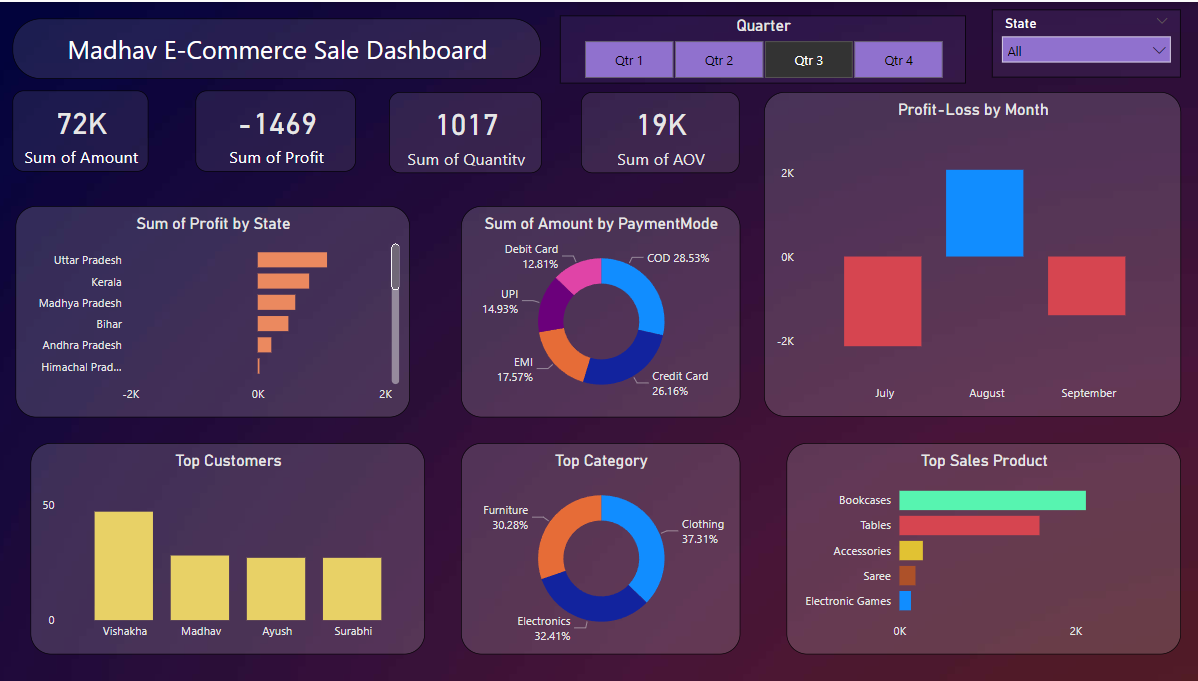

The dashboard page shown, as its layout file describes it:
{"tool":"powerbi","page":{"name":"Page 1","canvas":[1280,720],"ordinal":0},"visuals":[{"type":"card","fields":{"Values":["Details.Amount"]},"box":[18,94,144,86],"z":0},{"type":"card","fields":{"Values":["Details.Profit"]},"box":[212,94,170,86],"z":1000},{"type":"card","fields":{"Values":["Details.Quantity"]},"box":[416,96,162,86],"z":2000},{"type":"card","fields":{"Values":["Details.AOV"]},"box":[620,96,168,86],"z":3000},{"type":"textbox","box":[18,18,560,64],"z":4000},{"type":"columnChart","title":"Profit-Loss by Month","fields":{"Y":["Details.Profit"],"Category":["Orders.Order Date.Variation.Date Hierarchy.Month"]},"box":[814,96,442,344],"z":5000},{"type":"barChart","title":"Top Sales Product","fields":{"Category":["Details.Sub-Category"],"Y":["Details.Profit"]},"box":[838,468,418,224],"z":6000},{"type":"donutChart","title":"Top Category","fields":{"Category":["Details.Category"],"Y":["Details.Amount"]},"box":[492,468,296,224],"z":7000},{"type":"donutChart","fields":{"Category":["Details.PaymentMode"],"Y":["Details.Amount"]},"box":[492,216,296,224],"z":8000},{"type":"barChart","fields":{"Category":["Orders.State"],"Y":["Details.Profit"]},"box":[20,216,418,224],"z":8001},{"type":"columnChart","title":"Top Customers","fields":{"Category":["Orders.CustomerName"],"Y":["Details.Quantity"]},"box":[36,468,418,224],"z":8002},{"type":"slicer","title":"Quarter","fields":{"Values":["Orders.Order Date.Variation.Date Hierarchy.Quarter"]},"box":[598,14,430,72],"z":8003},{"type":"slicer","fields":{"Values":["Orders.State"]},"box":[1056,8,200,72],"z":8004}]}

Visuals, with their boxes in screenshot pixels (x1, y1, x2, y2), scaled from the page's 1280x720 canvas onto the 1198x681 screenshot:
card - Details.Amount: (17, 89, 152, 170)
card - Details.Profit: (198, 89, 358, 170)
card - Details.Quantity: (389, 91, 541, 172)
card - Details.AOV: (580, 91, 738, 172)
textbox: (17, 17, 541, 78)
"Profit-Loss by Month" columnChart: (762, 91, 1176, 416)
"Top Sales Product" barChart: (784, 443, 1176, 655)
"Top Category" donutChart: (460, 443, 738, 655)
donutChart - Details.PaymentMode x Details.Amount: (460, 204, 738, 416)
barChart - Orders.State x Details.Profit: (19, 204, 410, 416)
"Top Customers" columnChart: (34, 443, 425, 655)
"Quarter" slicer: (560, 13, 962, 81)
slicer - Orders.State: (988, 8, 1176, 76)
